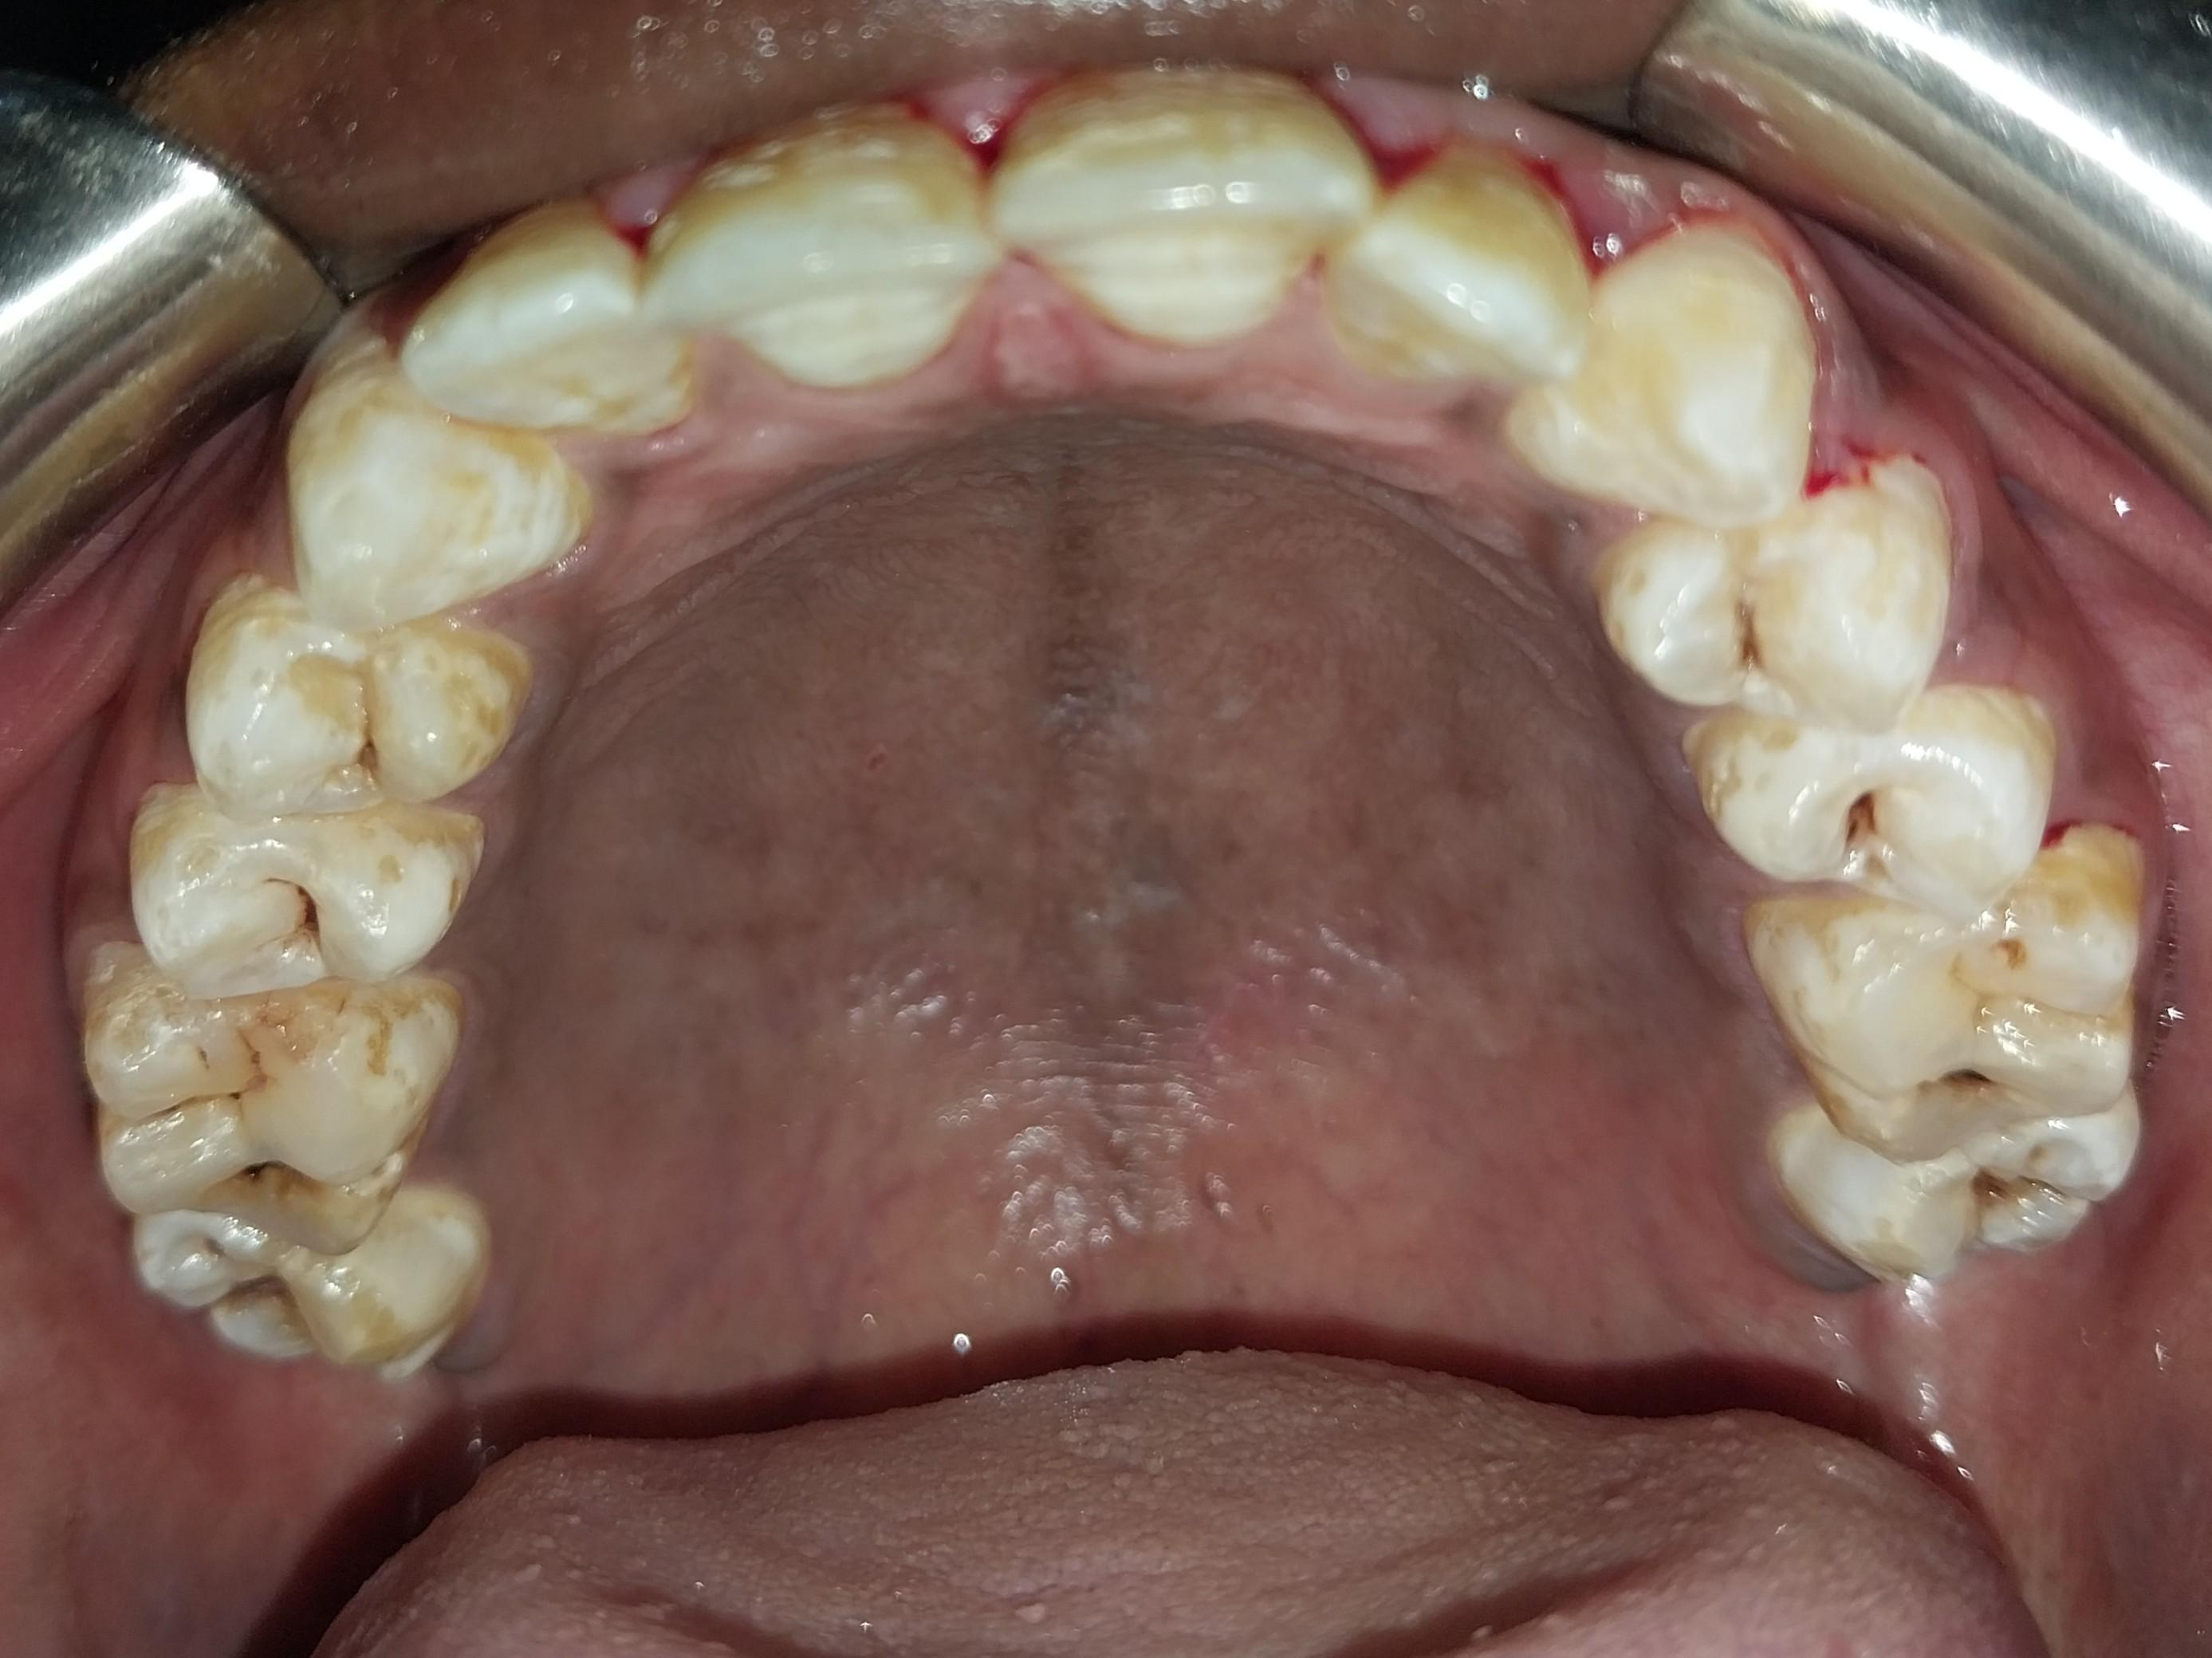D: (1750, 833, 2140, 1164), (78, 943, 460, 1250), (1597, 464, 1958, 730), (1681, 692, 2053, 910), (181, 591, 529, 808), (128, 800, 475, 998), (132, 1191, 483, 1383), (1780, 1097, 2139, 1281)
